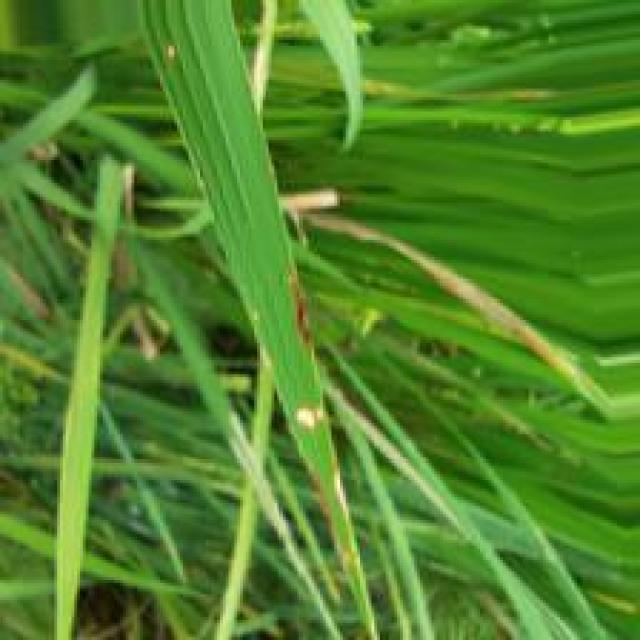Brown_Spot: (287, 271, 314, 362)
